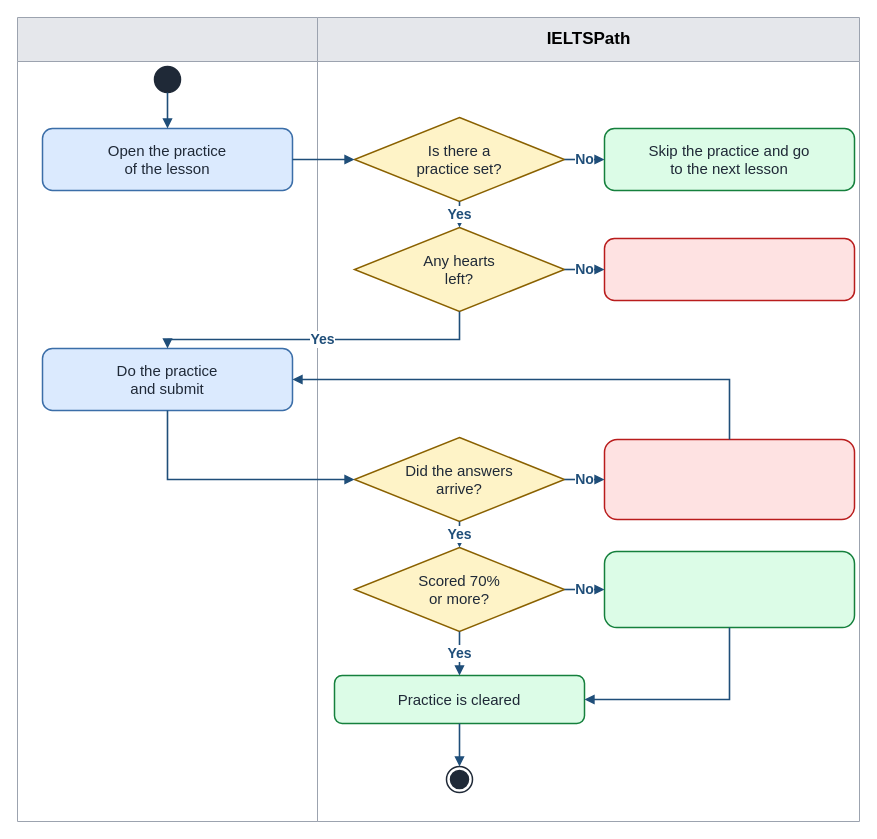
This 877x839 diagram has some shape labels left out. The shapes that lost their labels are listed below. From the top down, each one's box as (x1, y1, x2, y2) in pixels, then its label:
(603, 237, 855, 301): Wait for hearts to refill, or buy more with points
(16, 16, 318, 822): Learner
(603, 438, 855, 520): Send again: the same result comes back and is never counted twice
(603, 550, 855, 628): If a skill is weak, suggest a review (BF-02d); it is required if weak again
